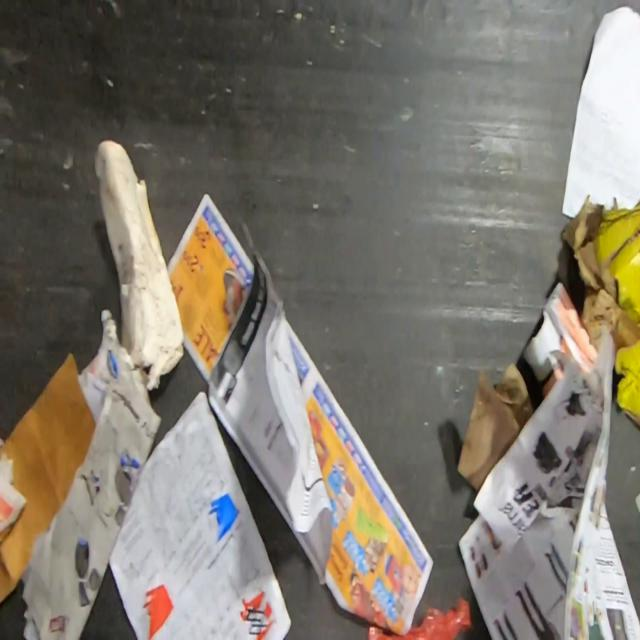cardboard: (0, 349, 98, 611), (560, 193, 640, 431)
soft_plastic: (365, 594, 474, 640)
